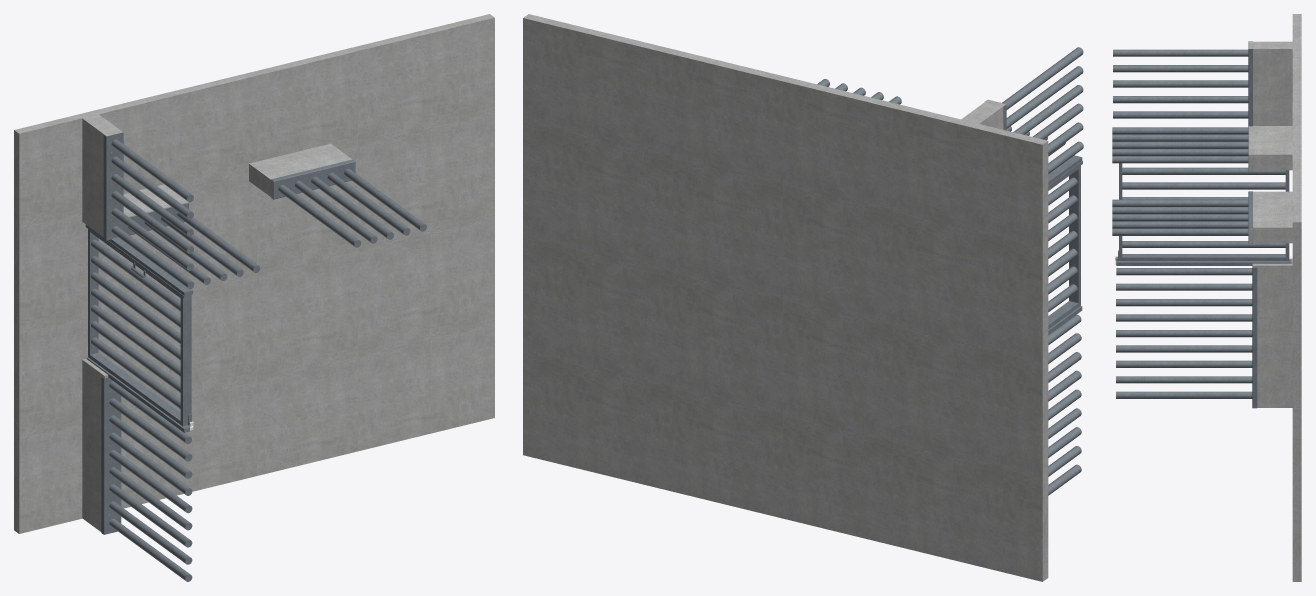
Rendered from puerta-valla-zona-parking-mwsuvekz.glb.
The picture shows the model from 3 angles, left to right: view 1: azimuth 30°, elevation 25°; view 2: azimuth 150°, elevation 25°; view 3: azimuth 270°, elevation 25°; orthographic projection. The views are drawn at different scales.
Visible parts, largest first — view 1: Body1, puerta, Body10, Body9, Cuerpo1_(1)_(1)_(1), Body7, Cuerpo1_(1)_(1), Cuerpo1_(1)_(2), recibidor, Body70, Body76, Body71 (+20 smaller); view 2: Body1, puerta, Body65, Body64, Body10, Body63; view 3: Body1, puerta, Body10, Body9, Body7, Body19, Body72, Body74, Body81, Body16, Body66, Body67 (+20 smaller).
Part boxes in pixels (x1,y1,x2,y2): Body1: (14,14,494,533); puerta: (88,229,191,426); Body10: (82,114,188,236); Body9: (82,358,116,531); Cuerpo1_(1)_(1)_(1): (101,376,121,534); Body7: (249,143,352,198); Cuerpo1_(1)_(1): (103,130,123,241); Cuerpo1_(1)_(2): (271,159,355,199); recibidor: (85,224,192,298); Body70: (109,398,192,461); Body76: (109,501,192,564); Body71: (109,415,192,478); Body1: (523,14,1048,581); puerta: (1048,165,1080,328); Body65: (1002,47,1083,109); Body64: (1006,66,1083,128); Body10: (961,100,1005,129); Body63: (1013,85,1083,134); Body1: (1292,14,1301,581); puerta: (1119,163,1289,260); Body10: (1248,41,1292,170); Body9: (1252,258,1292,407); Body7: (1248,191,1292,243); Body19: (1112,127,1248,134); Body72: (1116,314,1252,321); Body74: (1116,345,1252,352); Body81: (1112,221,1248,228); Body16: (1116,268,1252,275); Body66: (1112,134,1248,141); Body67: (1112,141,1248,148).
Size of the model in its own units: 5.43 by 4.36 by 2.08.
Materials: 3 (2 with a texture image).
